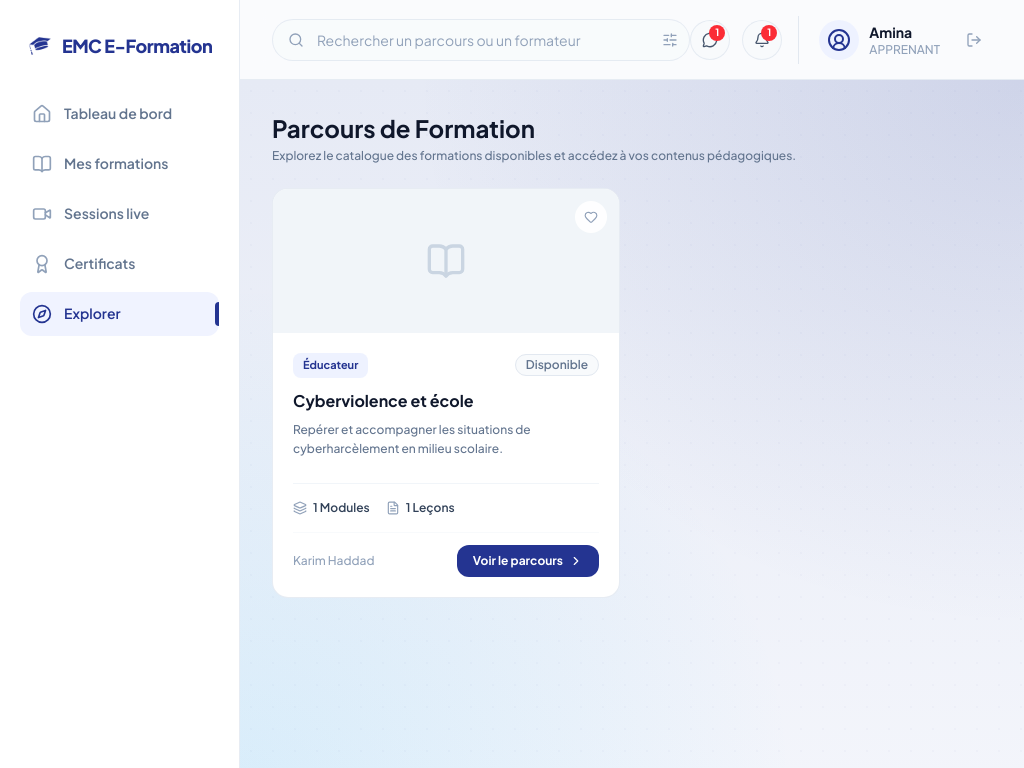
Test: Intégration — parcours apprenant › ajoute un parcours aux favoris depuis le catalogue
Check: the heading "Cyberviolence et école" is shown, box [293,390,474,410]
What coordinates should you click on to do the following:
click the button titled "Ajouter aux favoris"
I would click on:
 (591, 217)
Its box is [575,201,607,233].
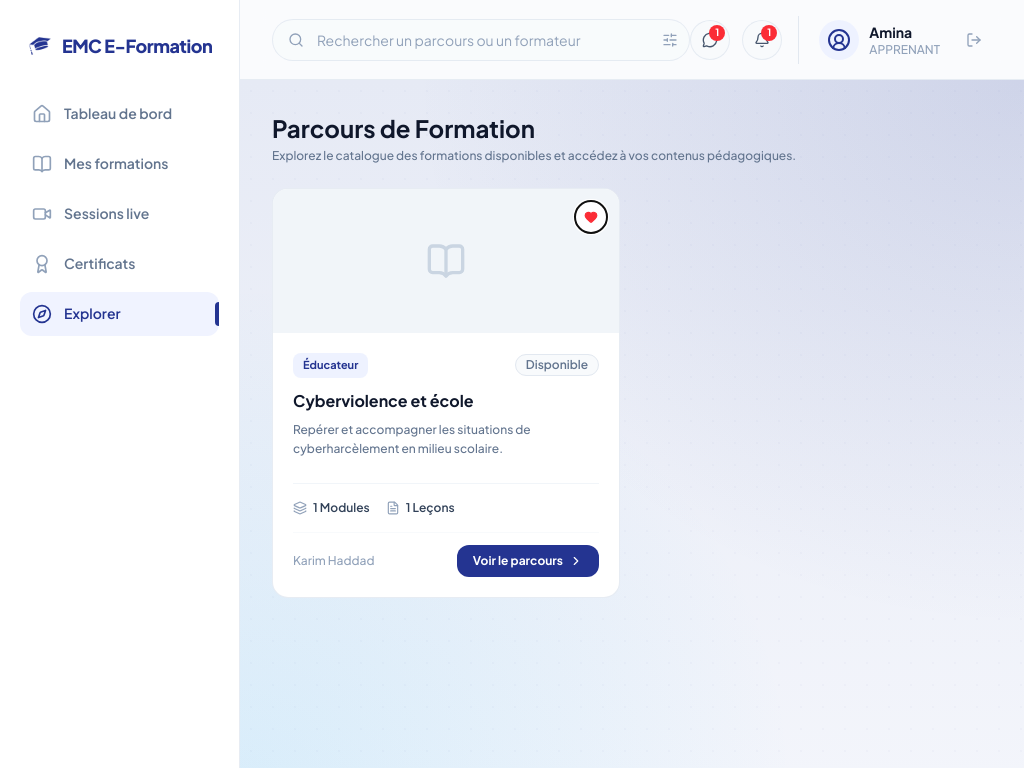
Check: the button titled "Retirer des favoris" is shown, box [575,201,607,233]
